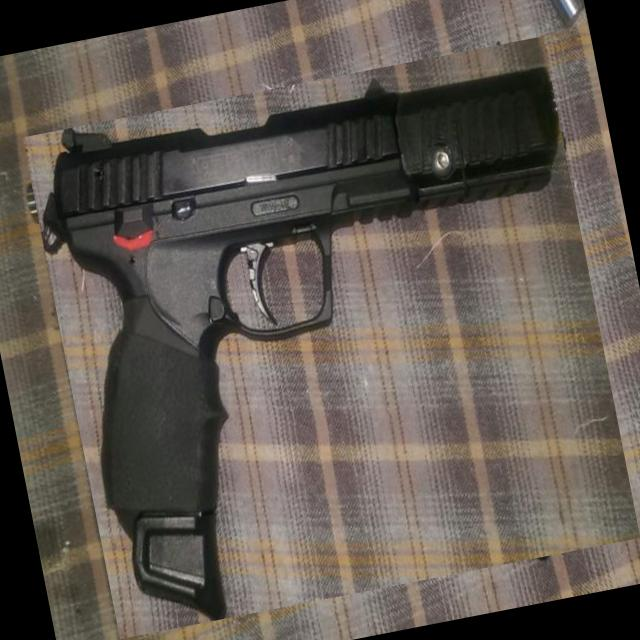Gun: (44, 69, 560, 621)
